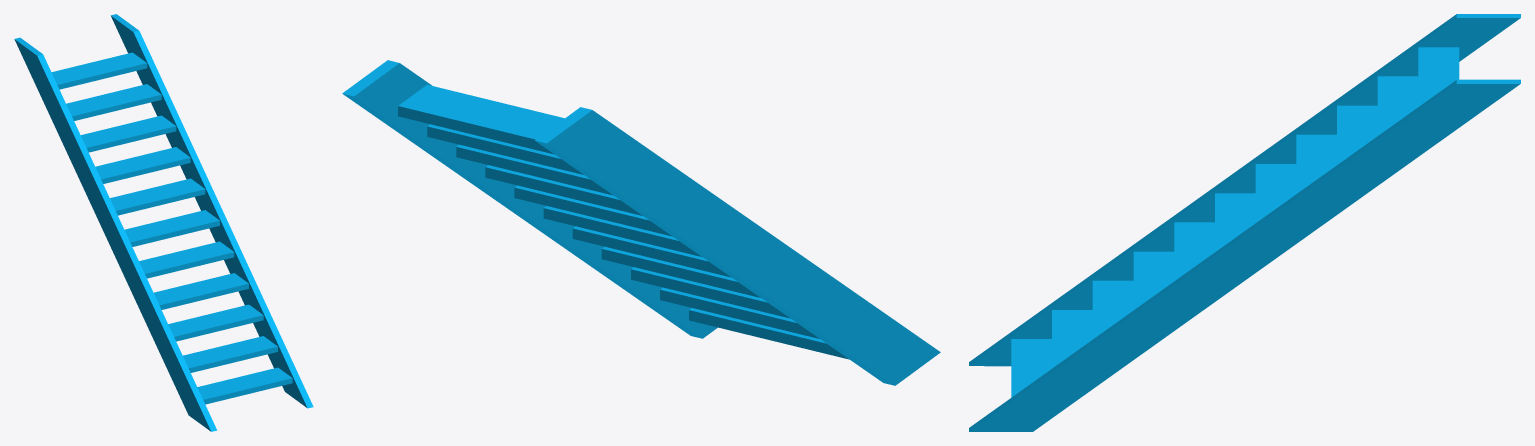
Rendered from Stairs_076.glb.
3 views of the same model, side by side, from view 1: azimuth 30°, elevation 25°; view 2: azimuth 150°, elevation 25°; view 3: azimuth 270°, elevation 25° (orthographic). The views are drawn at different scales.
Visible parts, largest first — view 1: Stairs_076; view 2: Stairs_076; view 3: Stairs_076.
Boxes of the visible parts, x1,y1,x2,y2 form: Stairs_076: [14, 14, 313, 431]; Stairs_076: [342, 60, 940, 385]; Stairs_076: [969, 14, 1520, 431].
Size of the model in its own units: 1.72 by 4 by 5.74.
1 material, 1 textured.
